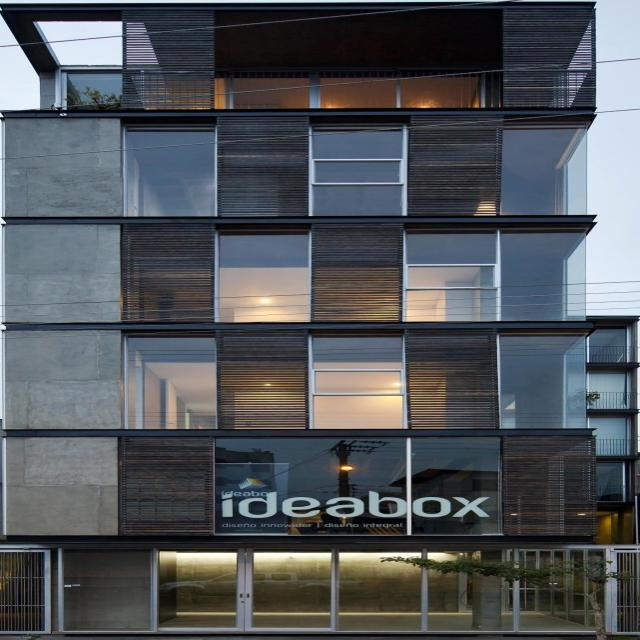door: (151, 546, 613, 635), (153, 546, 342, 632)
window: (215, 436, 505, 536), (406, 228, 588, 321), (312, 335, 412, 429), (125, 336, 220, 429), (216, 77, 488, 109), (499, 334, 588, 429), (316, 126, 406, 218), (221, 231, 312, 321), (130, 127, 219, 217), (504, 127, 591, 215), (64, 71, 121, 109)
